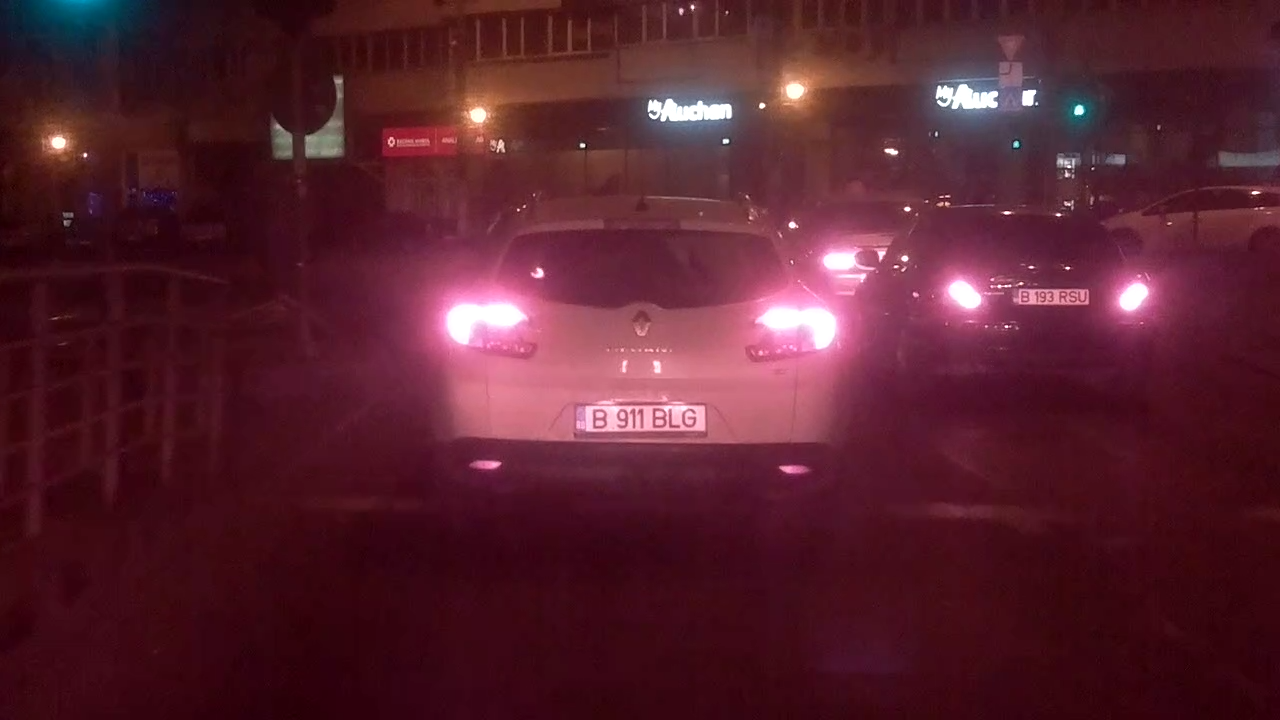license-plate: (570, 399, 712, 438), (1008, 283, 1093, 309)
